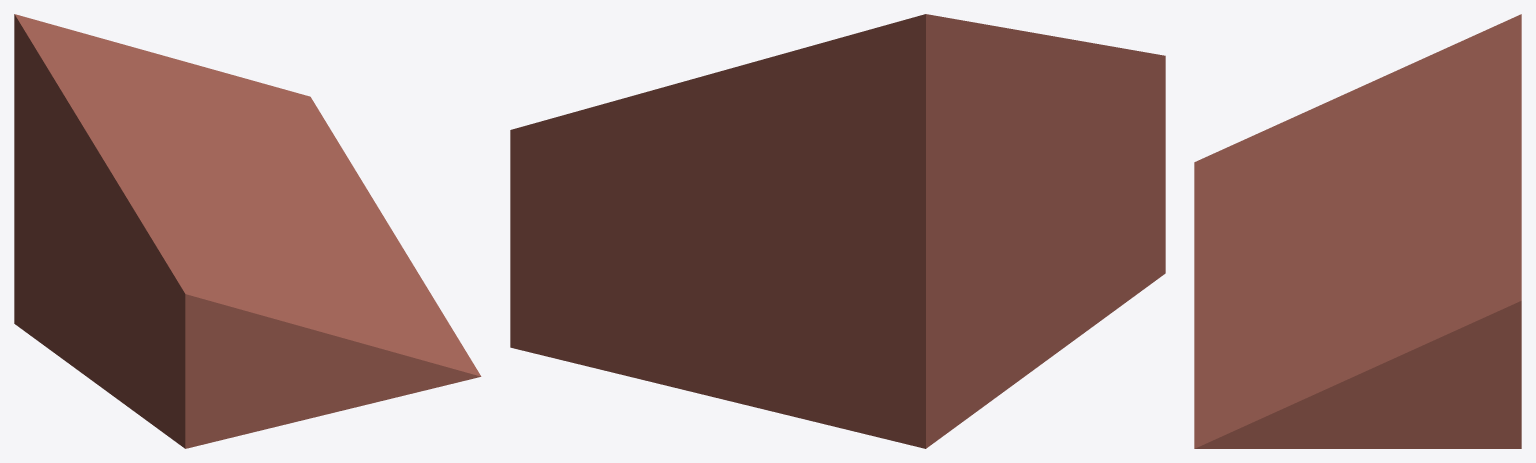
Rendered from Hazard_OuterCorner.glb.
3 views of the same model, side by side, from view 1: azimuth 30°, elevation 25°; view 2: azimuth 150°, elevation 25°; view 3: azimuth 270°, elevation 25° (orthographic). The views are drawn at different scales.
Visible parts, largest first — view 1: Hazard_OuterCorner_body; view 2: Hazard_OuterCorner_body; view 3: Hazard_OuterCorner_body.
Part boxes in pixels (box(x1,y1,x2,y2)): Hazard_OuterCorner_body: box(14, 14, 481, 448); Hazard_OuterCorner_body: box(510, 14, 1165, 448); Hazard_OuterCorner_body: box(1194, 14, 1521, 448).
Bounding box in the file's own units: 1 × 1 × 1.
